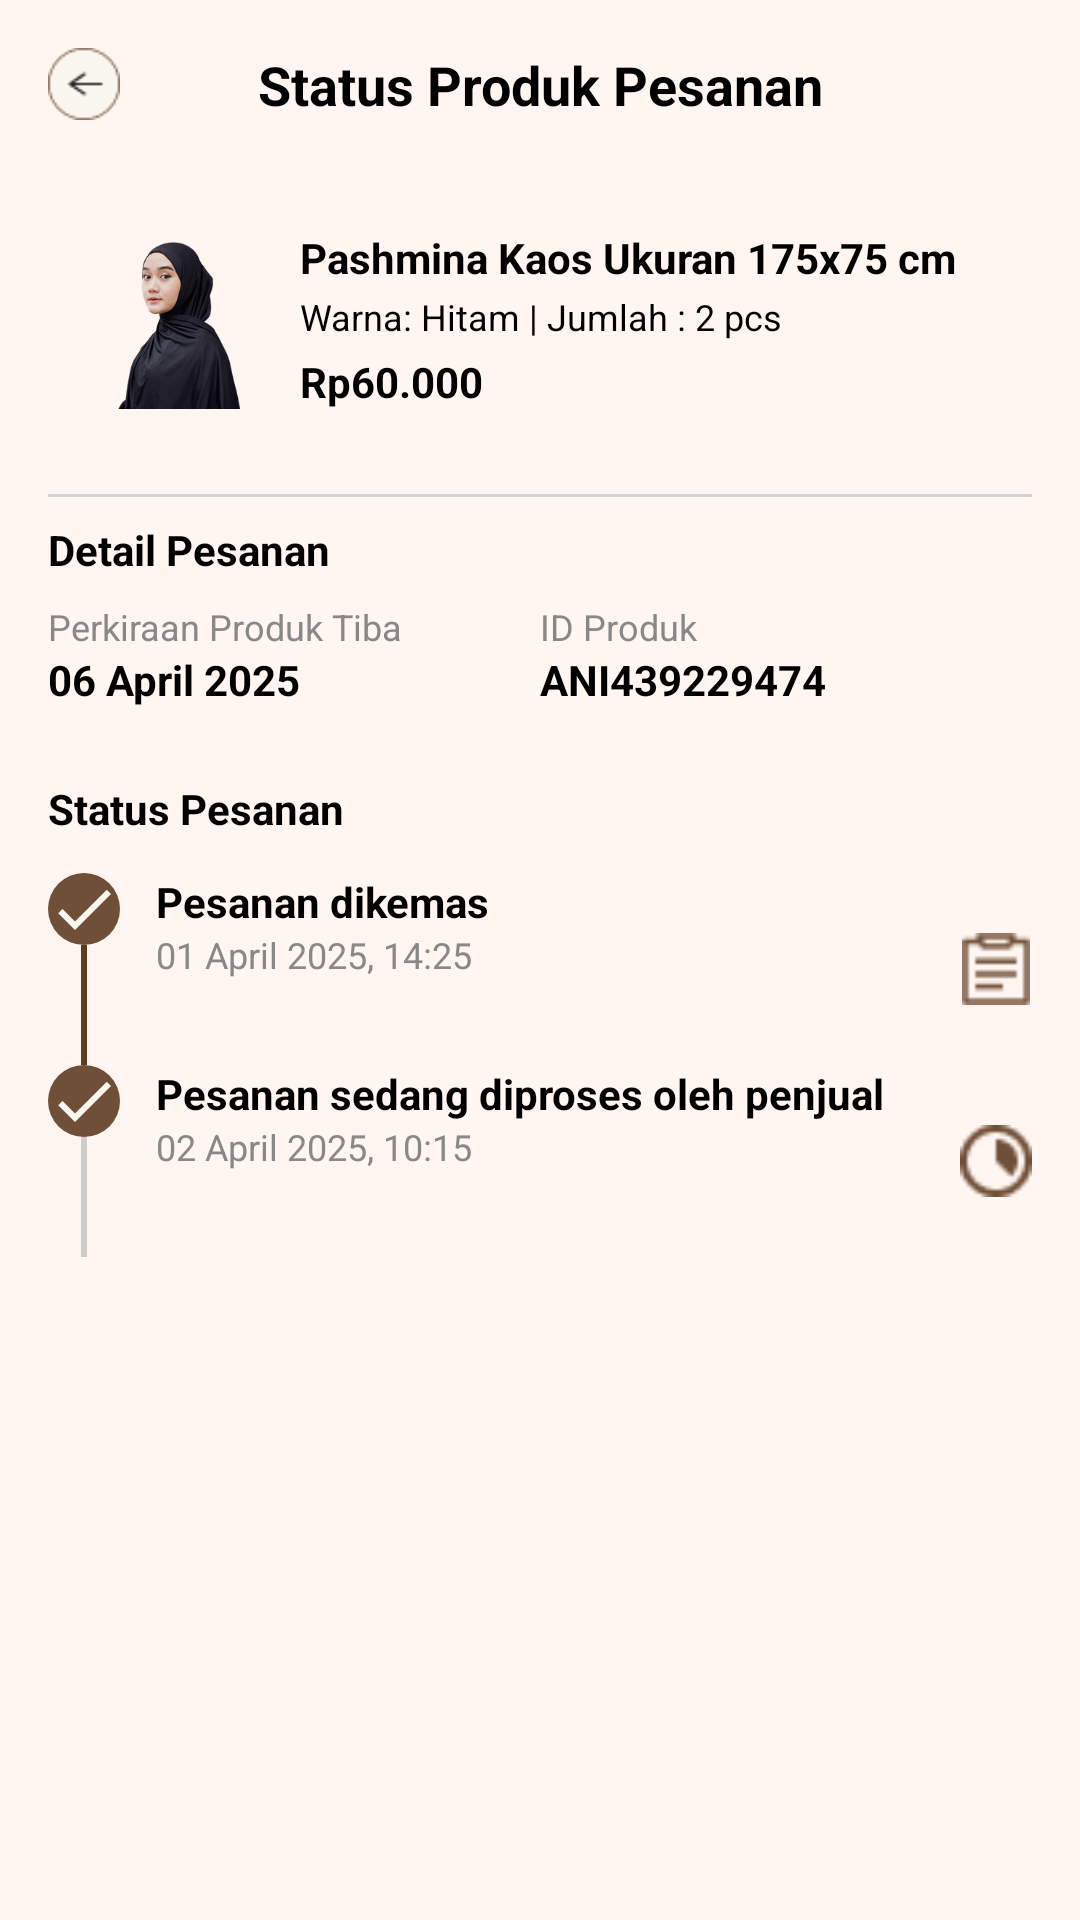

Icons on this 1080w x 1920h Android screen, each with the point to tap as (x=x, y=y):
Back: (x=84, y=84)
checked: (x=84, y=909), (x=84, y=1101)
jam: (x=996, y=1161)
notes: (x=996, y=969)
product main: (x=179, y=325)
